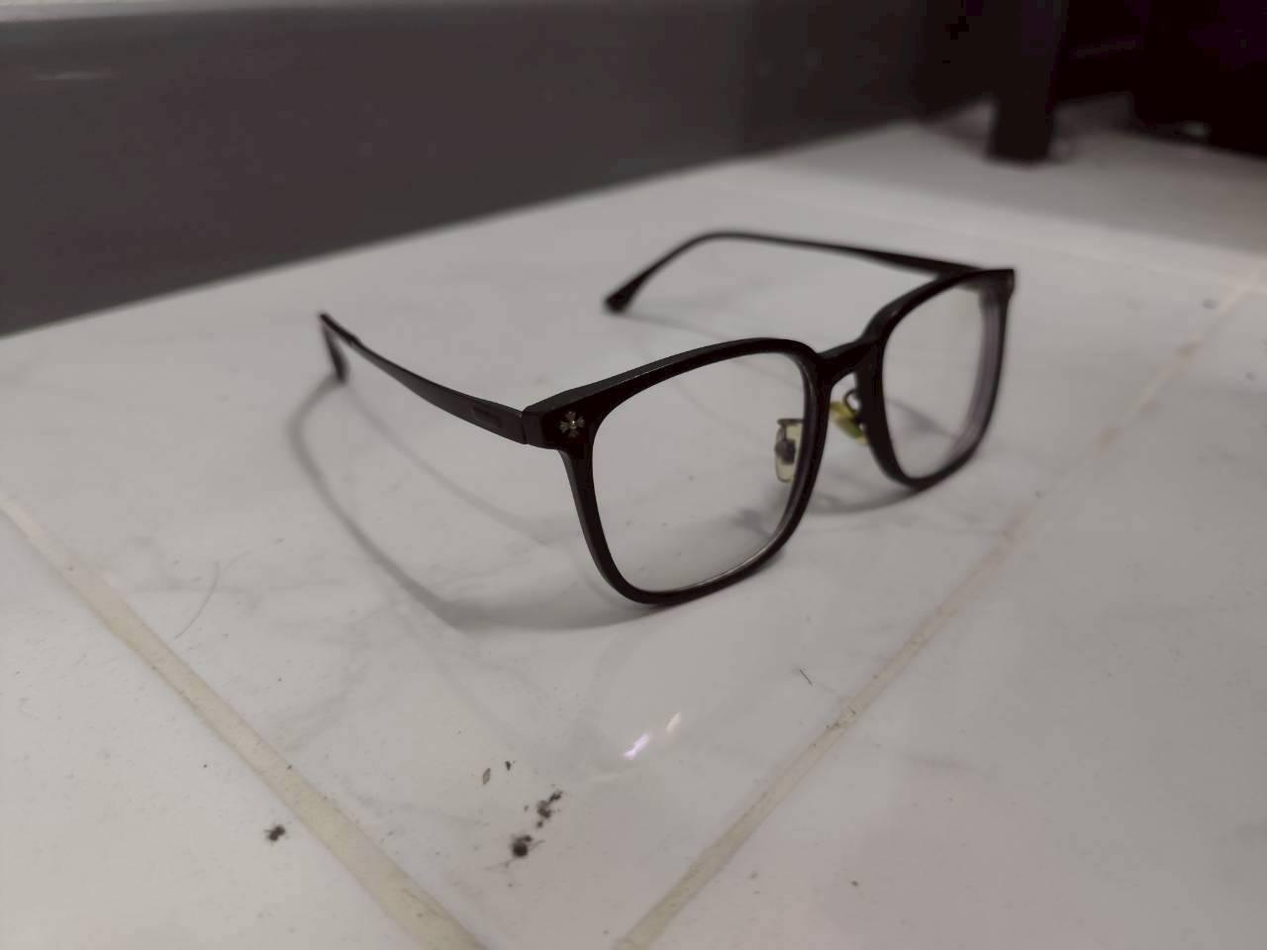glasses: (307, 221, 1027, 600)
